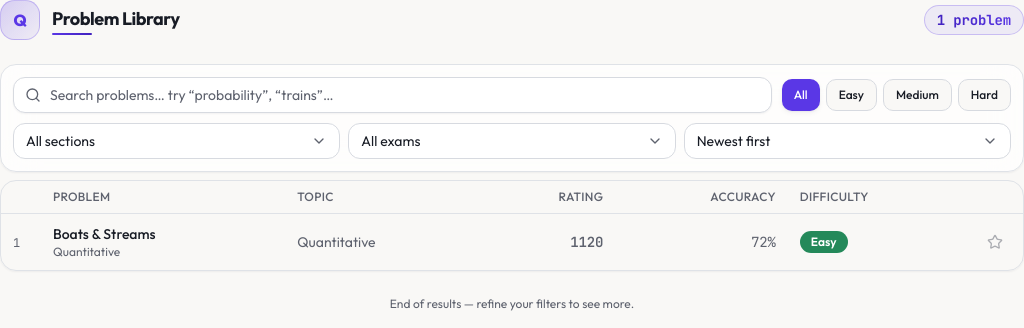
Test: ProblemLibrary › offers section, exam and sort filters plus a reset
expect the dropdown named "section filter" is shown: met, box [13,123,340,159]
expect the dropdown named "exam folder filter" is shown: met, box [348,123,676,159]
Click the button "Easy".
click(851, 95)  # box [826,79,877,111]
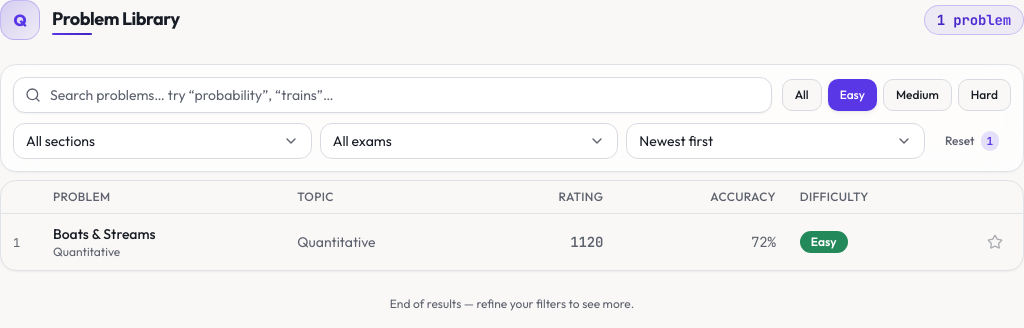
expect the button "Reset 1" is shown: met
Click the button "Reset 1".
click(972, 141)  # box [933,125,1011,157]
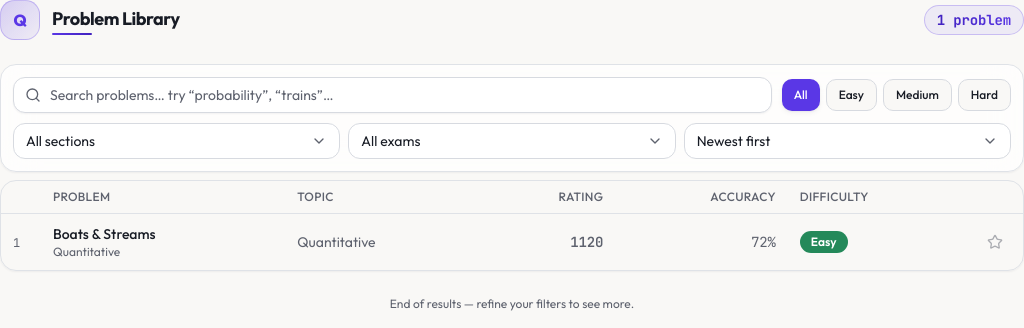
expect the button "Reset" is gone: met
